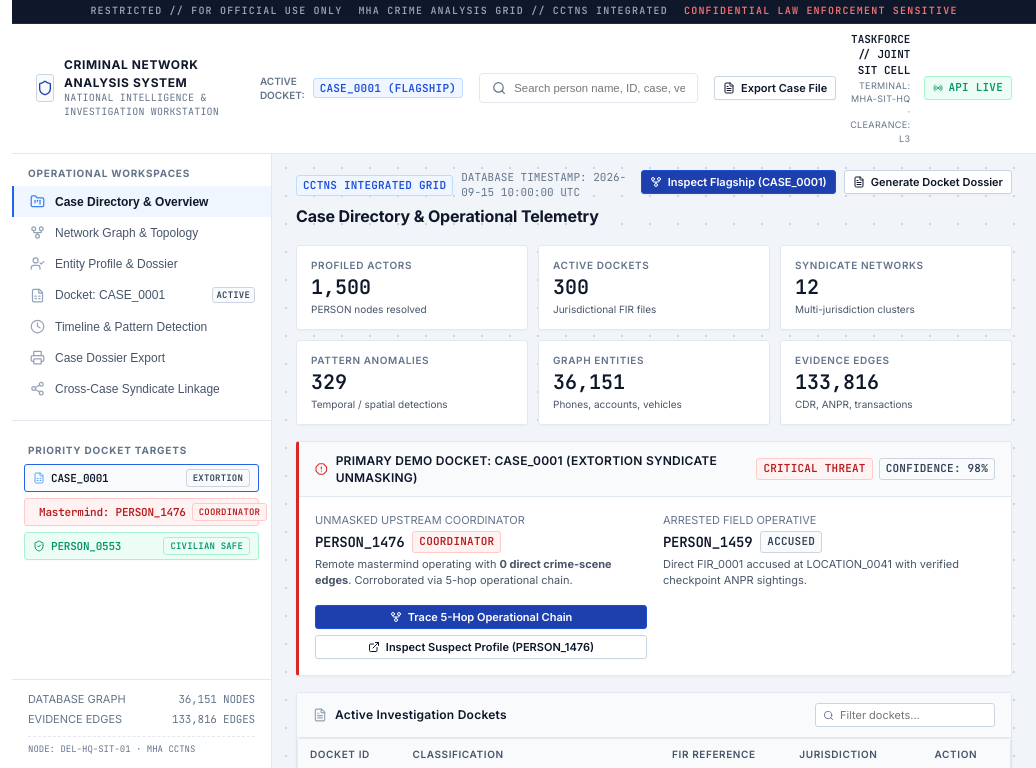
Test: SIH26189 Tactical Workstation Frontend Test Suite › navigates to Case Investigation page for CASE_0001
The width and height of the screenshot is (1036, 768).
// Navigate to Cases tab
Click the button with test id "nav-case". click: (142, 295)
box: [12,279,271,311]
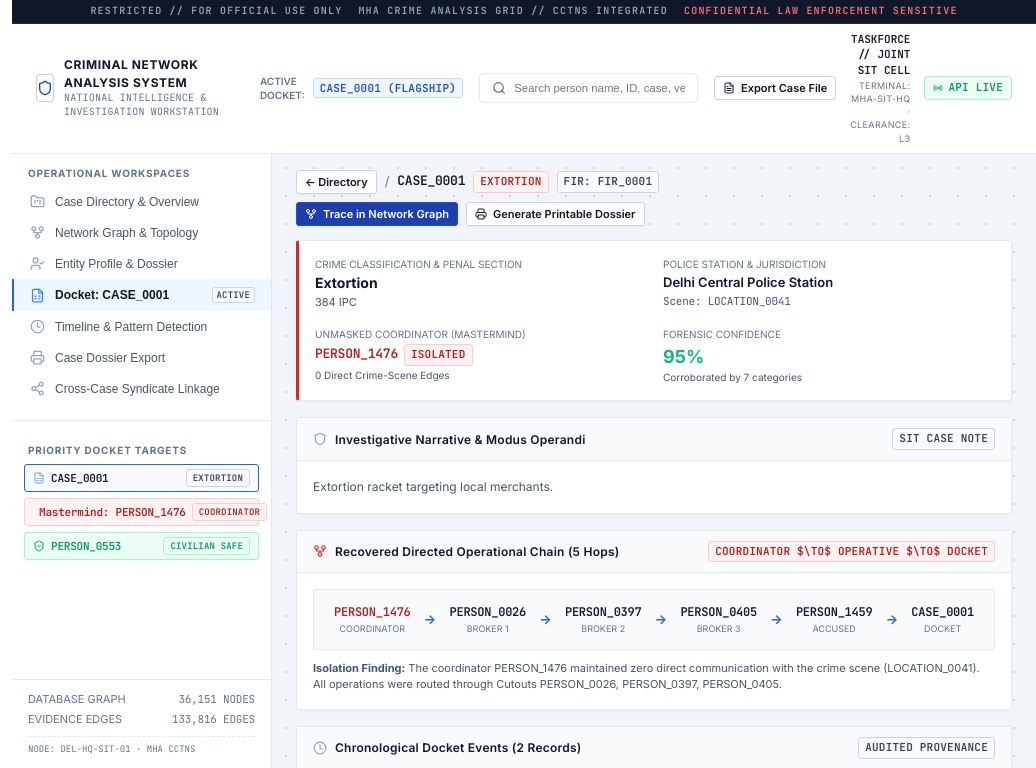
Expected: the text "EXTORTION" below "Priority Docket Targets" is shown, [193,472,243,484]
Expected: the text "FIR: FIR_0001" is shown, [557,171,659,192]
Expected: the text "384 IPC" is shown, [315,295,357,309]
